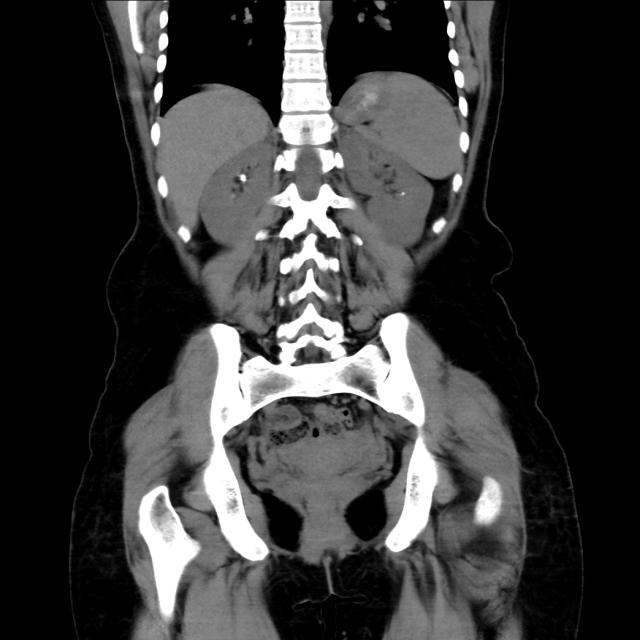kidneystone: (237, 174, 247, 182), (399, 190, 405, 195)
